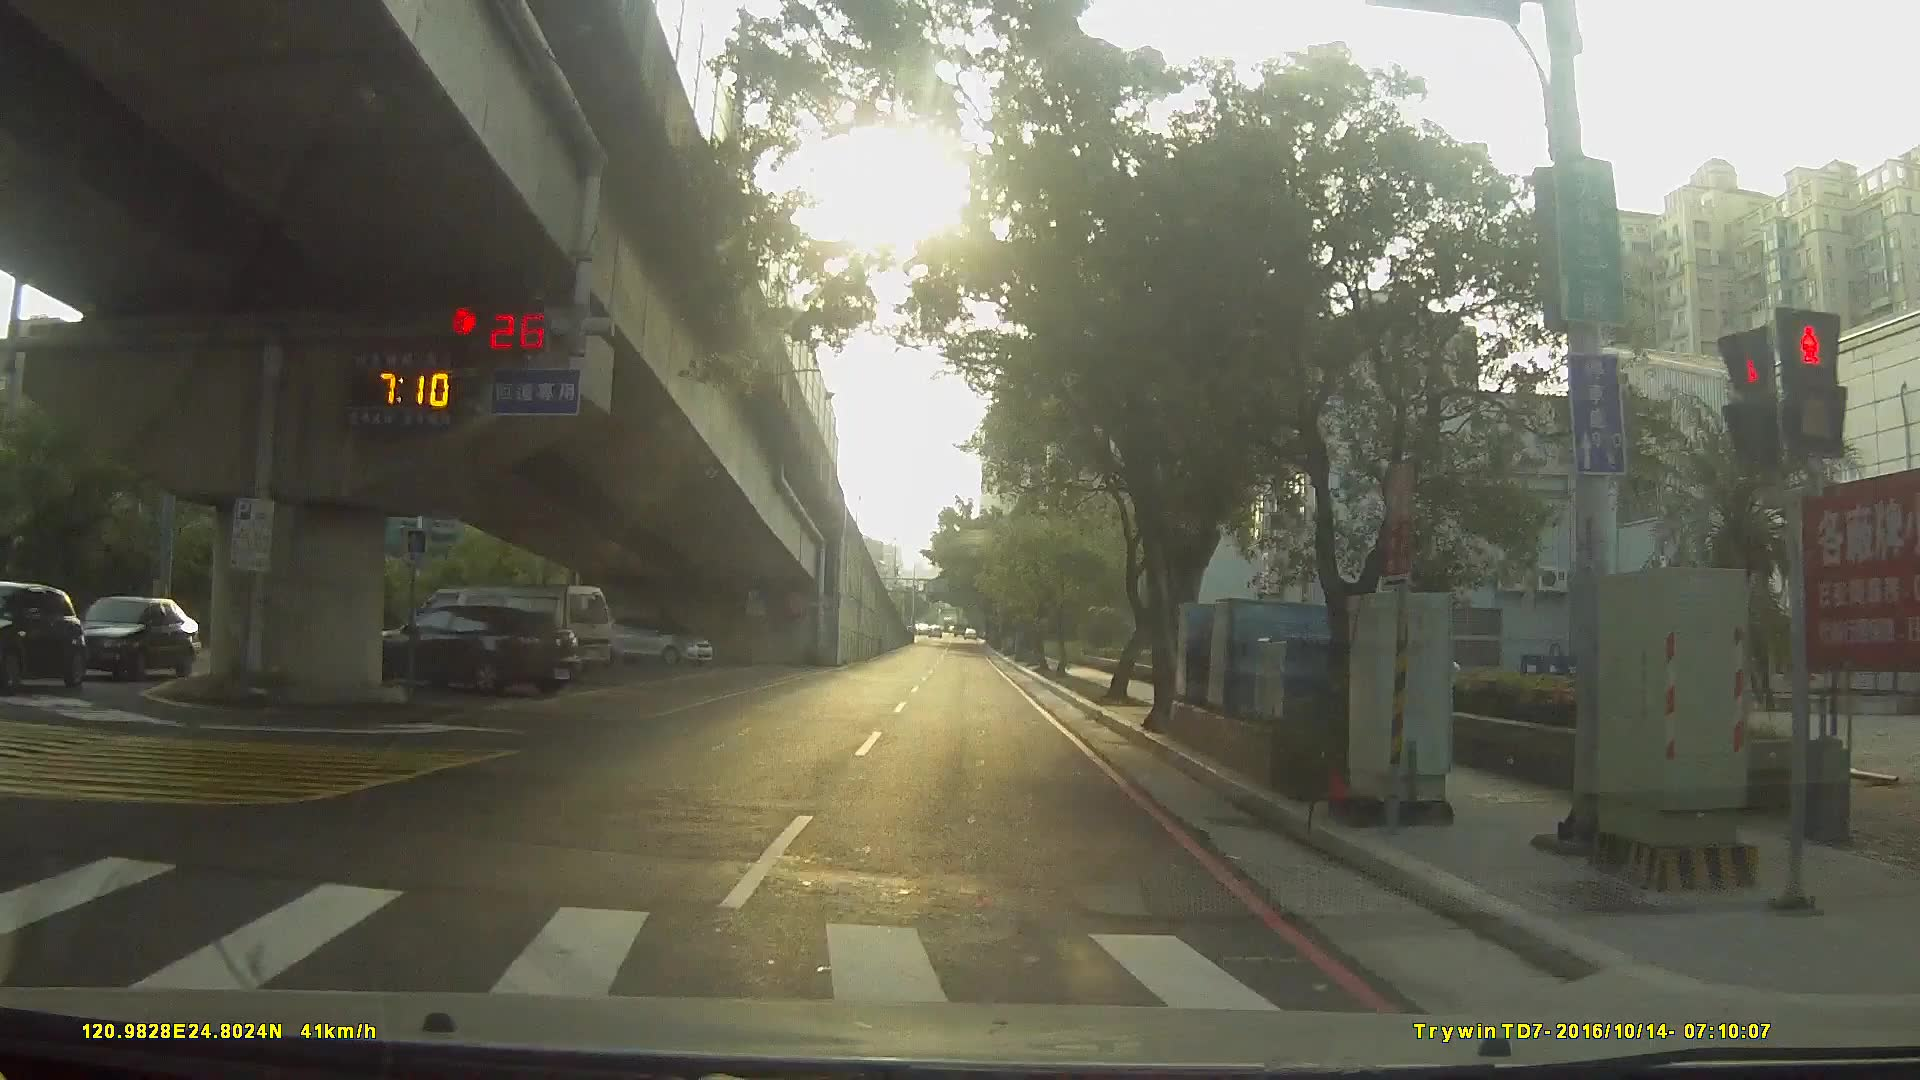vehicle: (348, 597, 582, 695), (397, 579, 608, 680), (65, 587, 208, 676), (1, 578, 92, 686), (588, 611, 713, 667)
